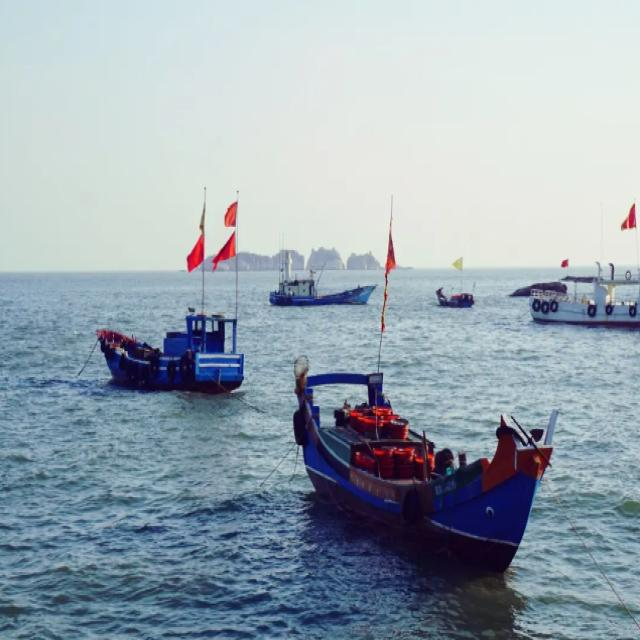fishing boat: (285, 350, 551, 569), (96, 301, 246, 395), (526, 256, 640, 331), (271, 226, 376, 304), (434, 257, 479, 308)
